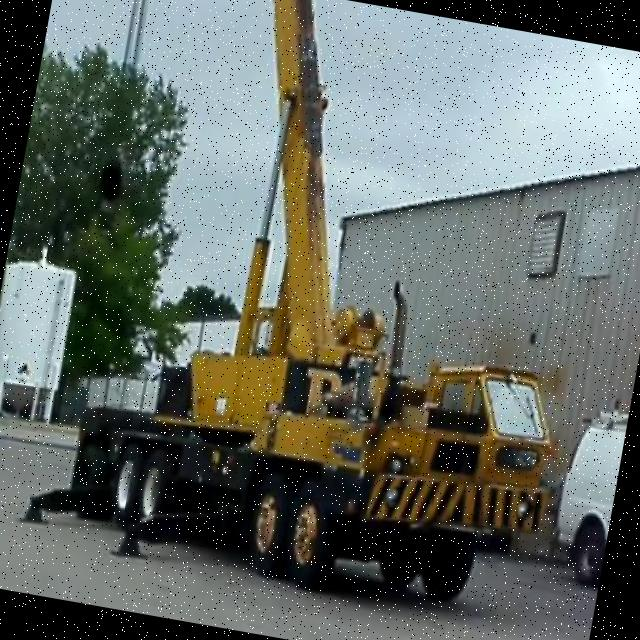Mobile Crane: (13, 0, 621, 618)
